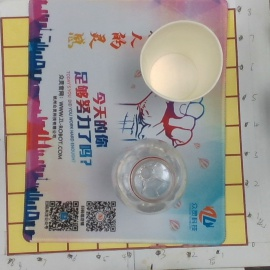bottle: (113, 138, 188, 214)
cup: (136, 21, 223, 101)
